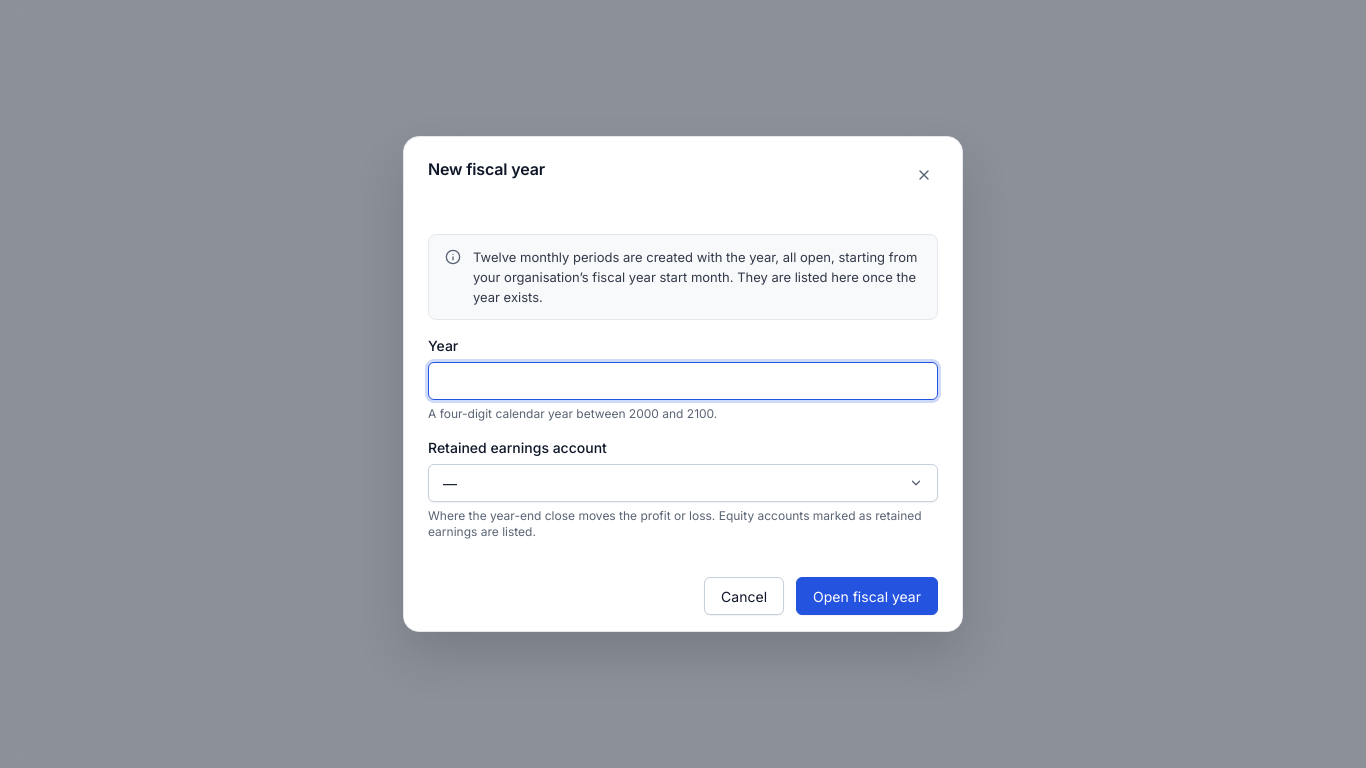
CreateFiscalYearForm › refuses a duplicate year before the server has to
In the field labelled "Year": (683, 381) [428,362,938,400], type "2026"
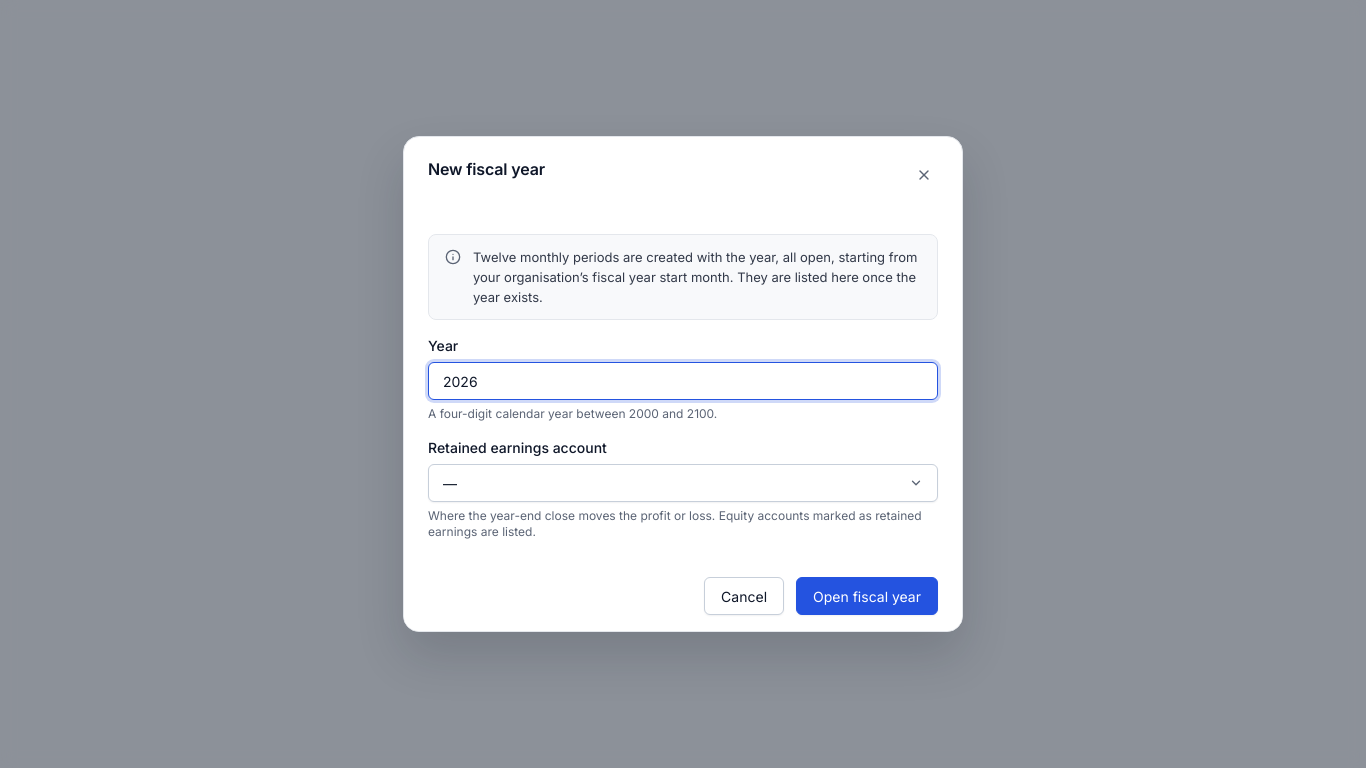
Click the dropdown named "Retained earnings account": (450, 483) [428,464,938,502]
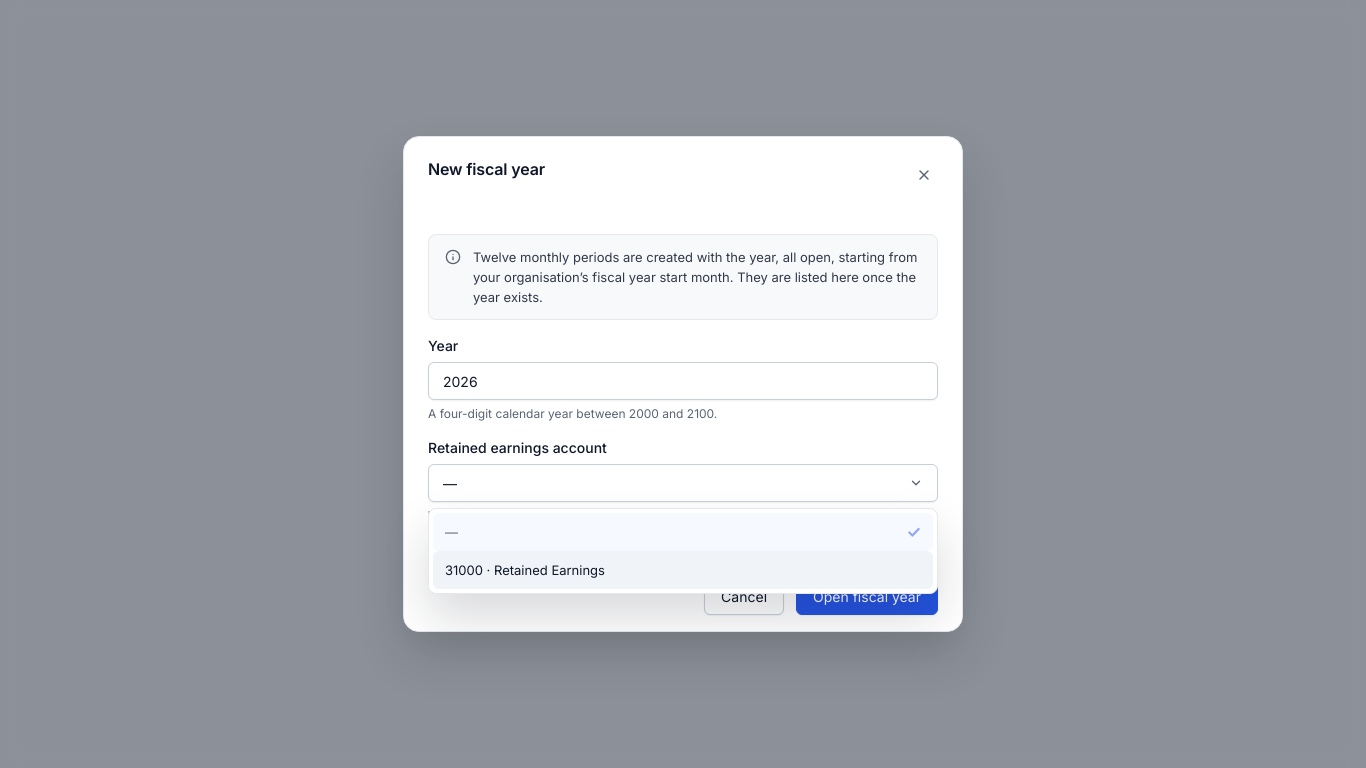
Click the option "31000 · Retained Earnings": (464, 570) [433,551,933,589]
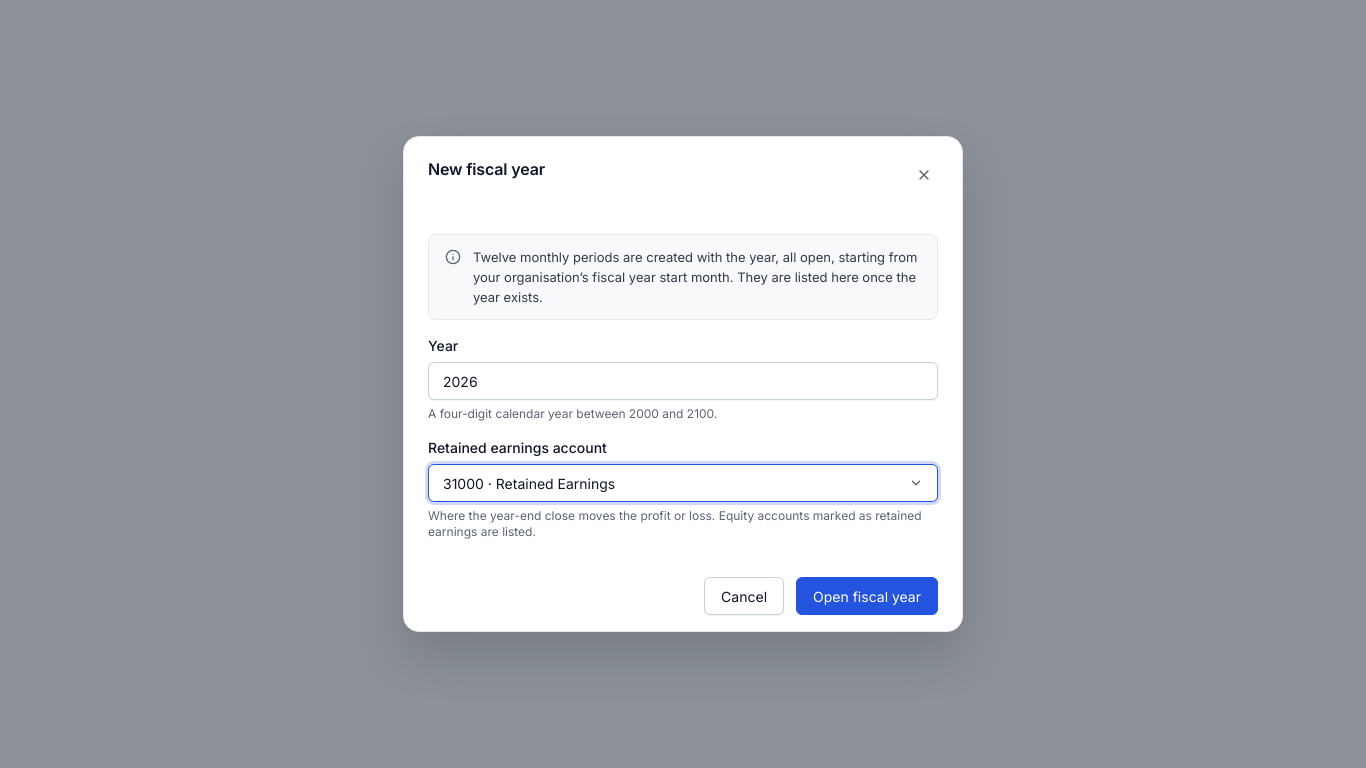
Click the button "Open fiscal year": (867, 596) [796,577,938,615]
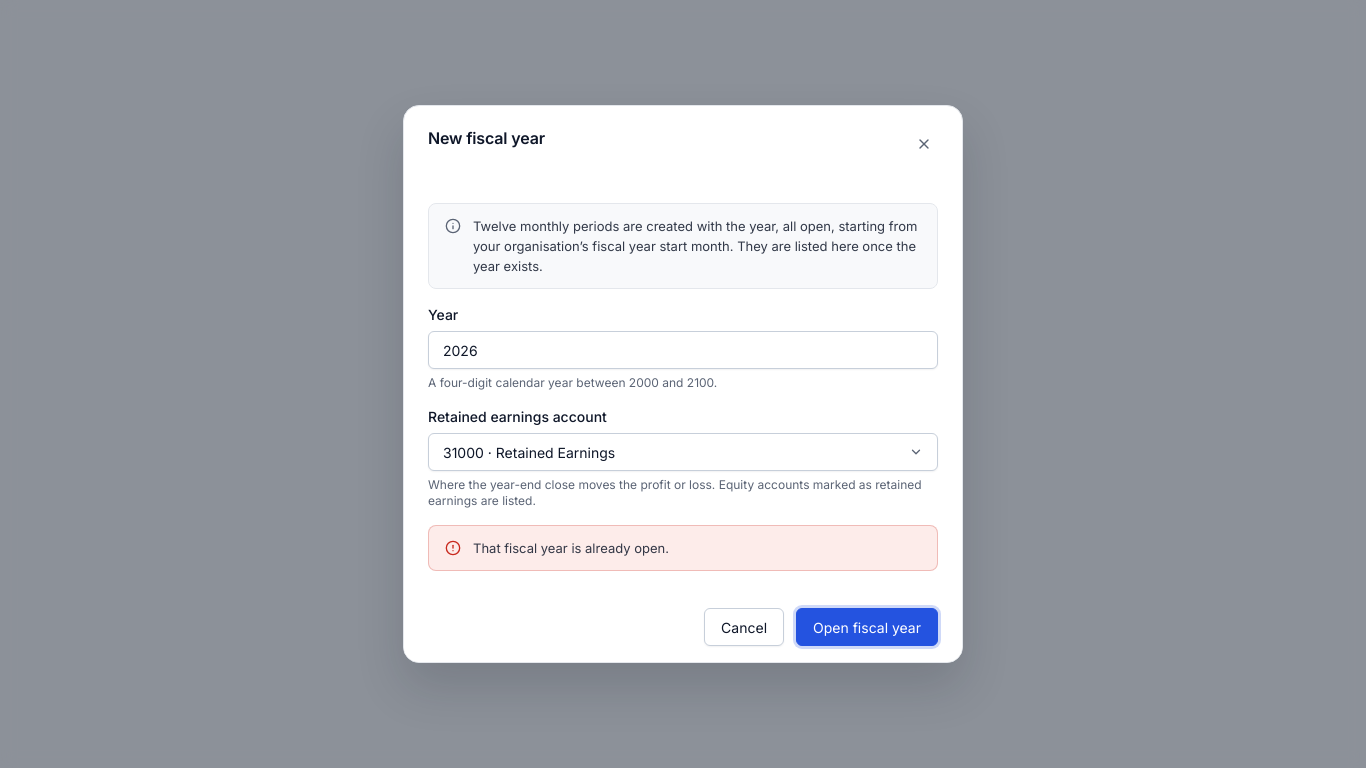
Expected: the text "That fiscal year is already open." is shown, [473,540,669,556]
